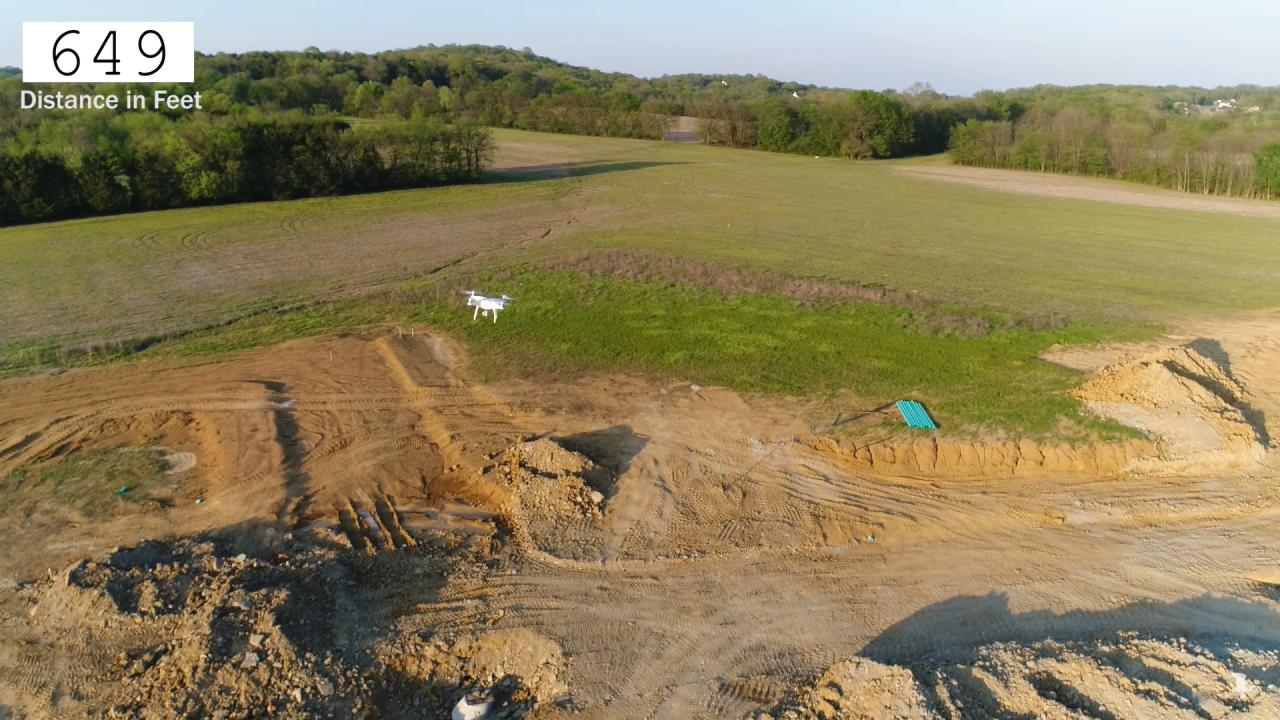Drone: (451, 282, 522, 332)
